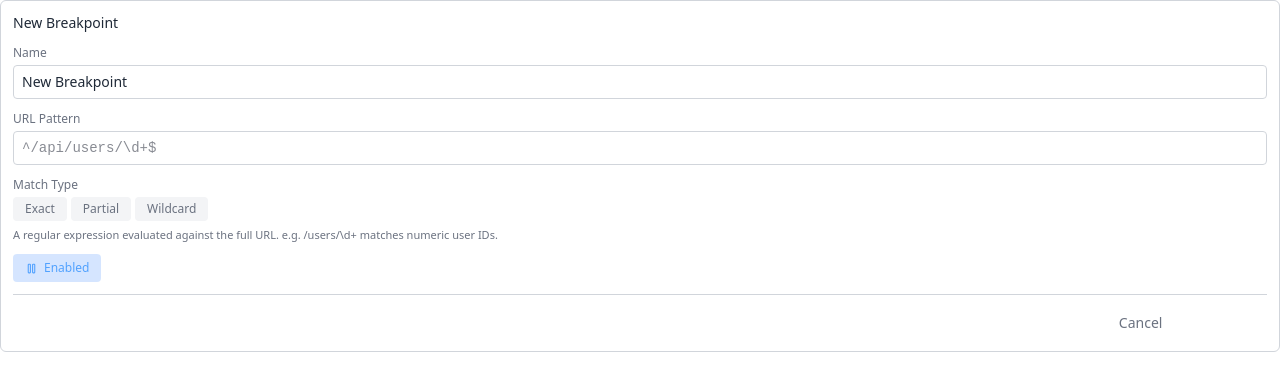
Test: BreakpointEditor › shows validation error for invalid regex
The width and height of the screenshot is (1280, 389).
Type "[invalid" into the field with test id "bp-url-input" at (640, 148), box [13, 131, 1267, 165]
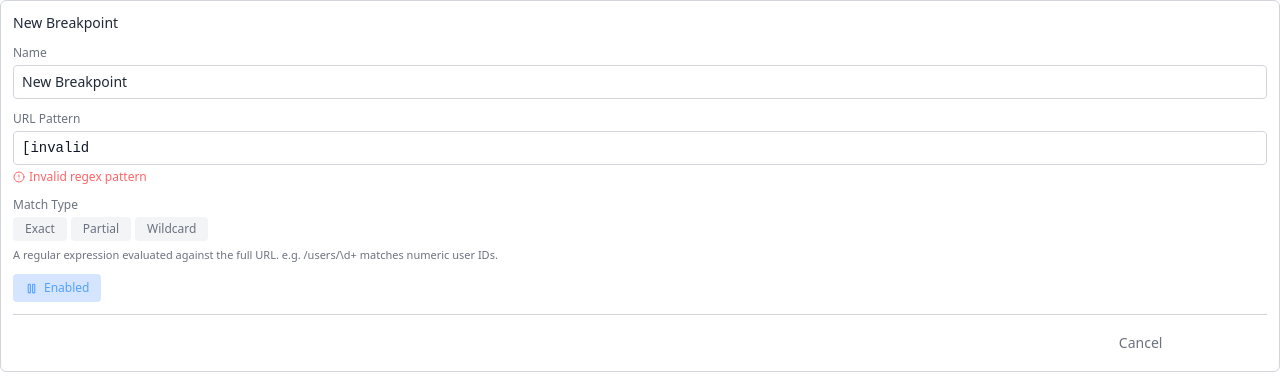
Now the text "Invalid regex pattern" is shown, box [13, 168, 147, 185]
